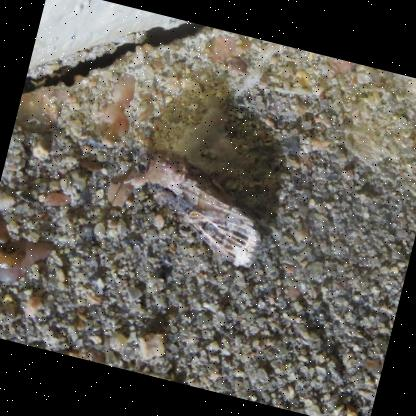Fall Armyworm Moth: (98, 132, 282, 274)
